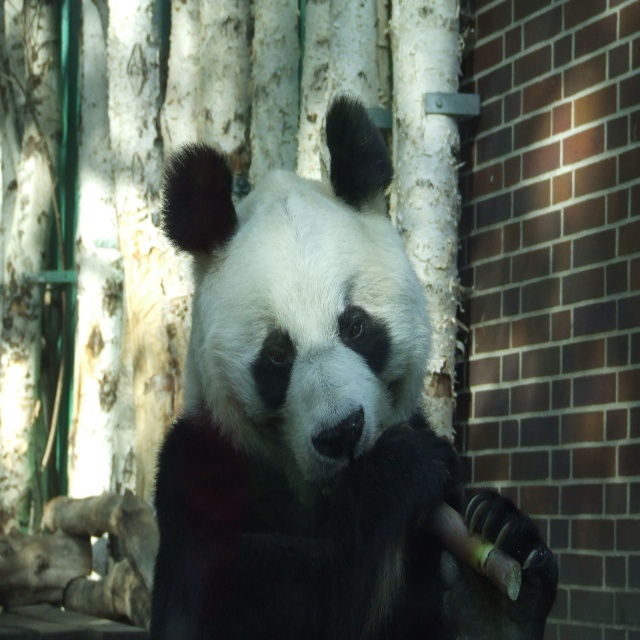Panda: (146, 90, 560, 639)
